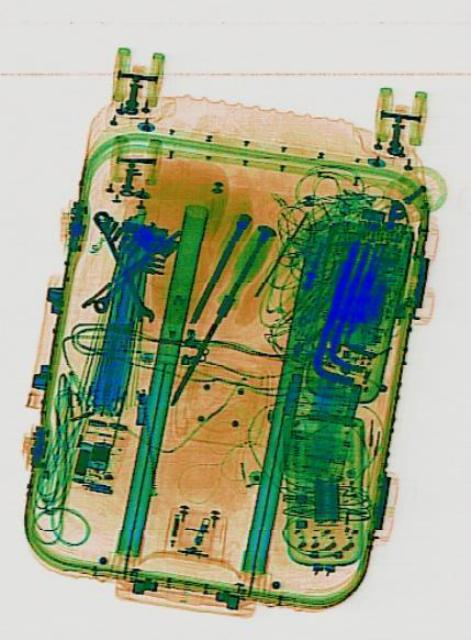Wrench: (88, 204, 155, 326)
